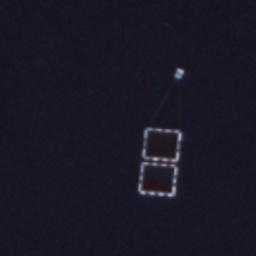square_solid: (136, 157, 181, 200), (139, 124, 183, 165)
